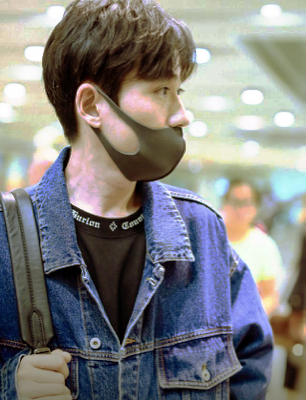mask_weared_incorrect: (106, 72, 190, 182)
